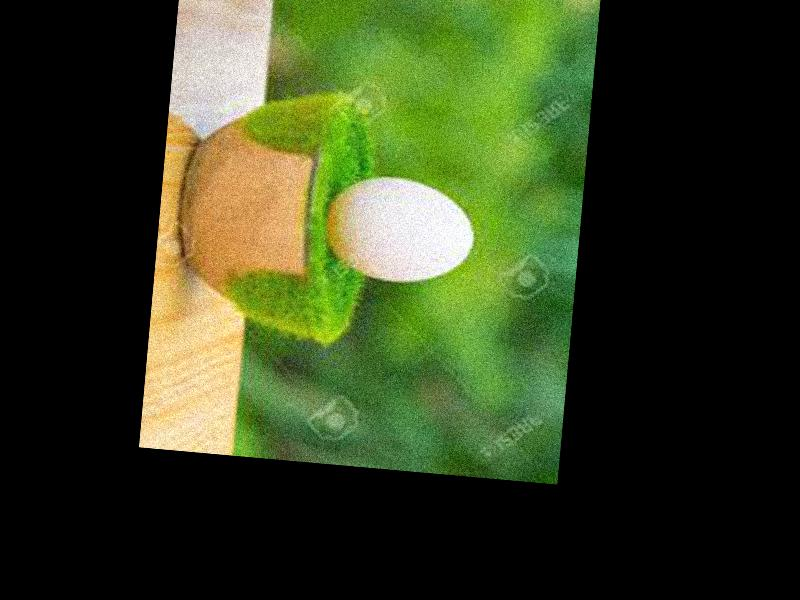Eggs: (322, 169, 475, 285)
